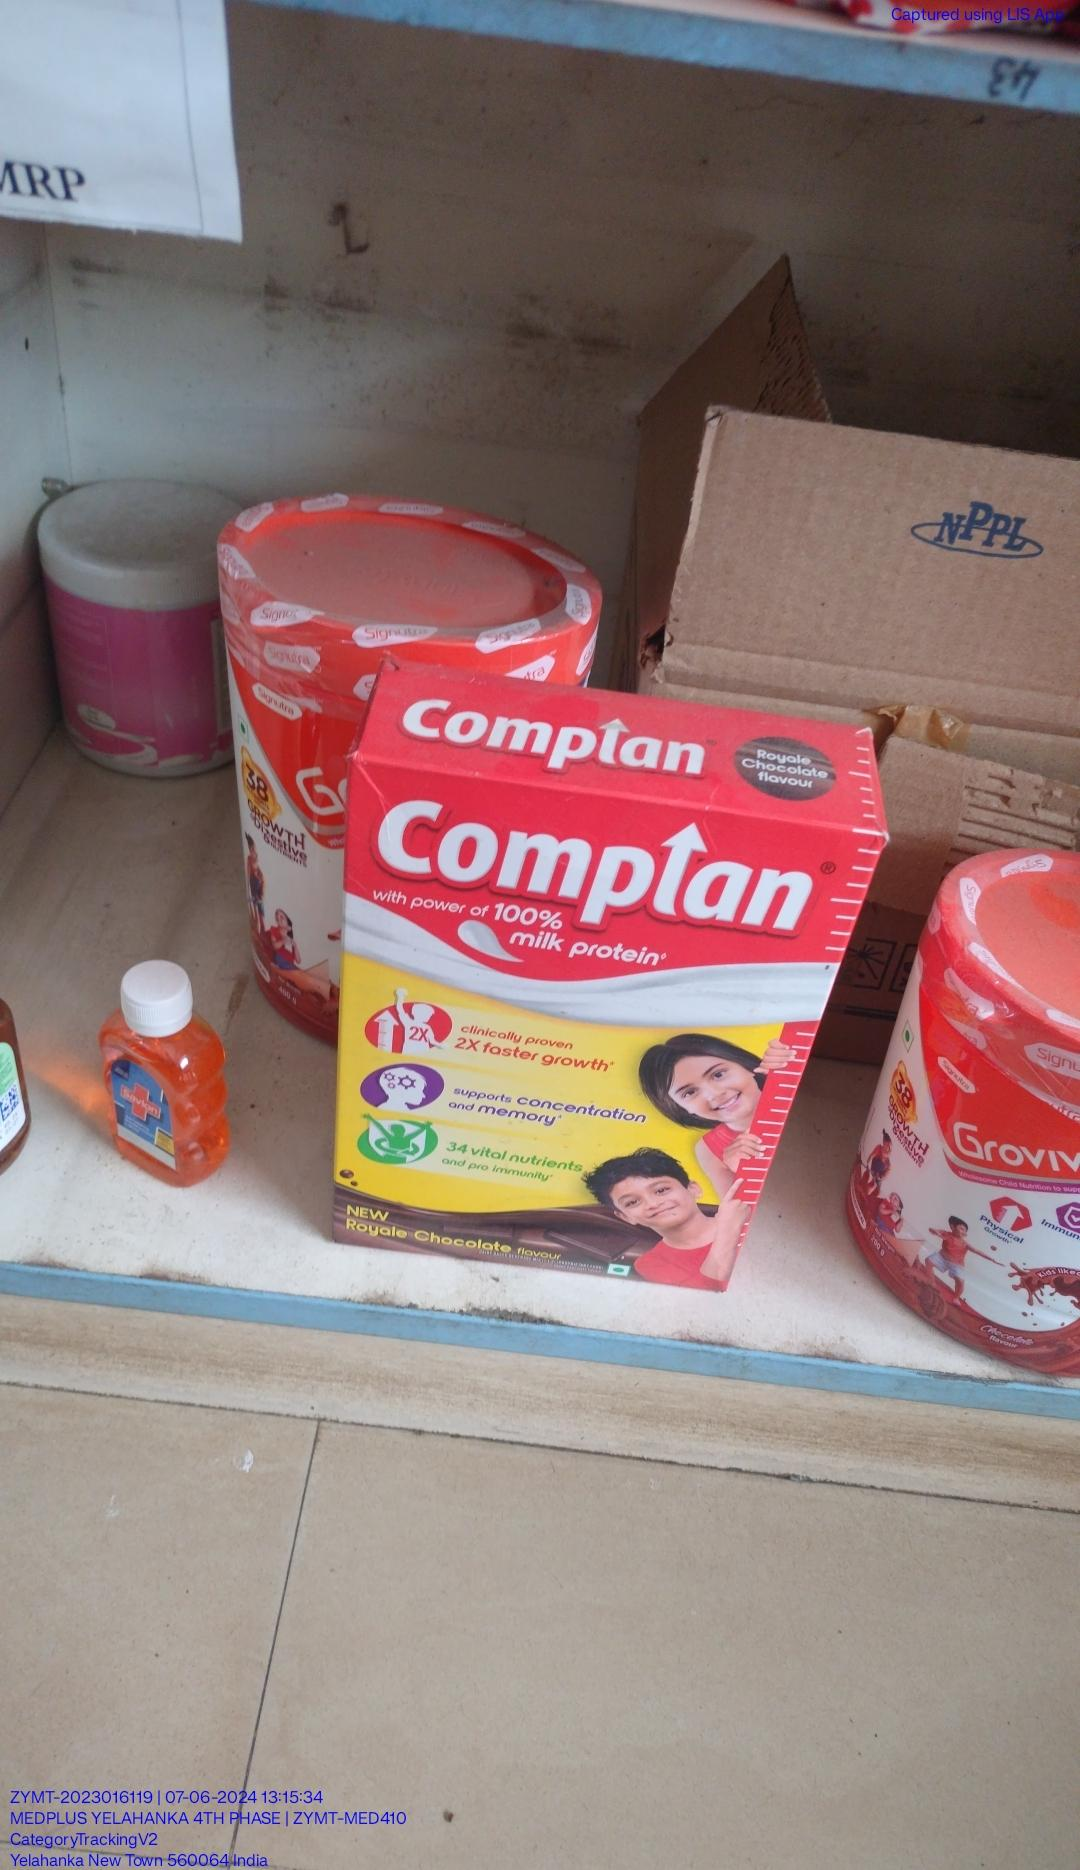COMPLAN_CHOCOLATE_500_GMS_PACK: (334, 758, 850, 1288)
